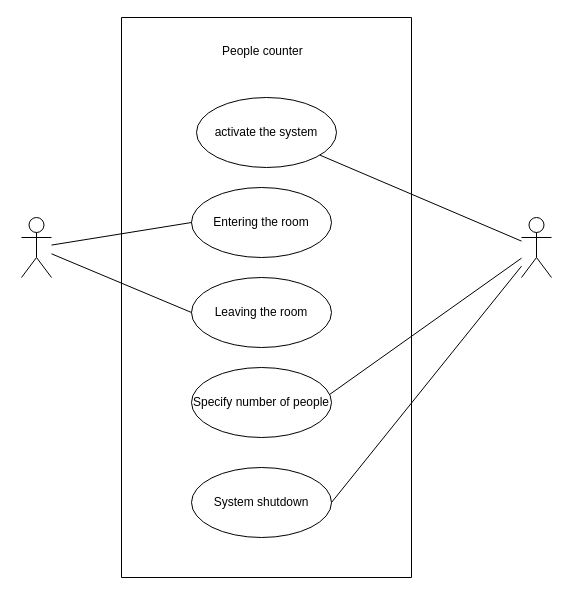
Image size: 570x595. Some labels were removed from this diagram. The centre of each missing label's shape, as x and y in pixels:
"Admin" belongs at point 536,247.
"Person" belongs at point 36,247.
